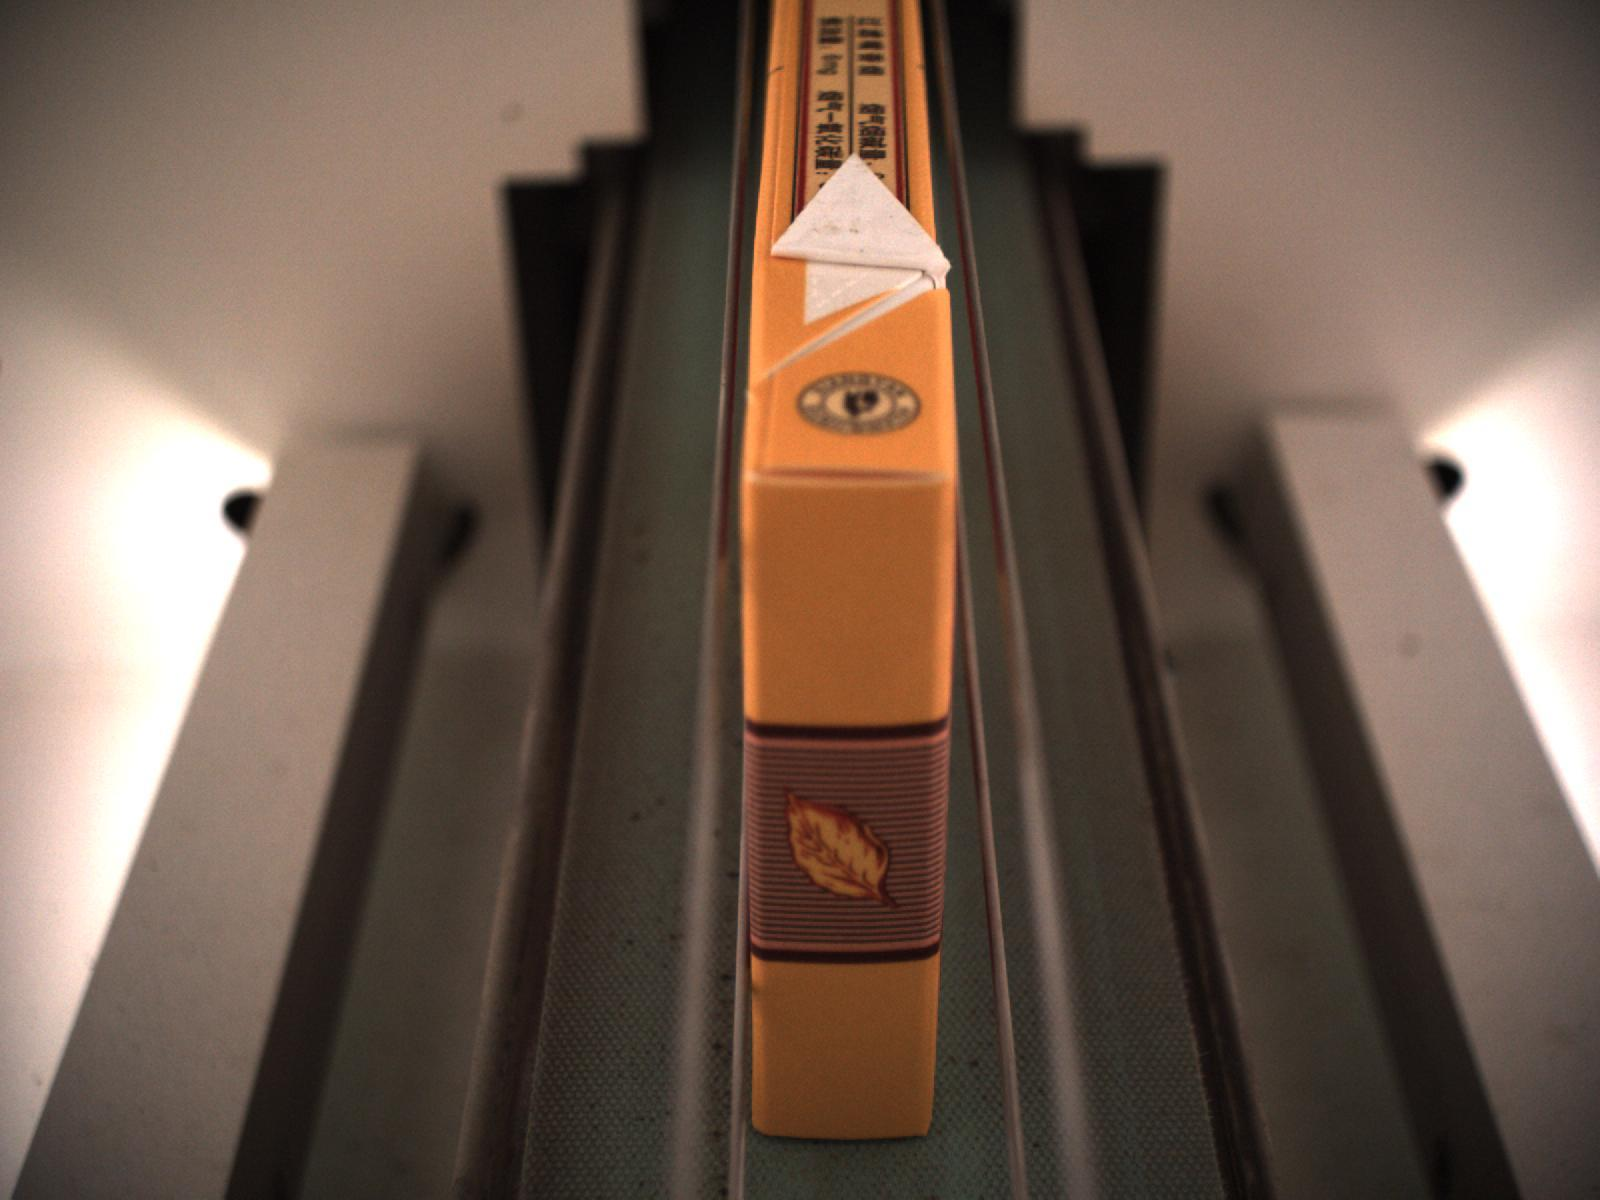cornerBreak: (738, 447, 960, 521)
outerFold_upper_2: (758, 145, 949, 366)
